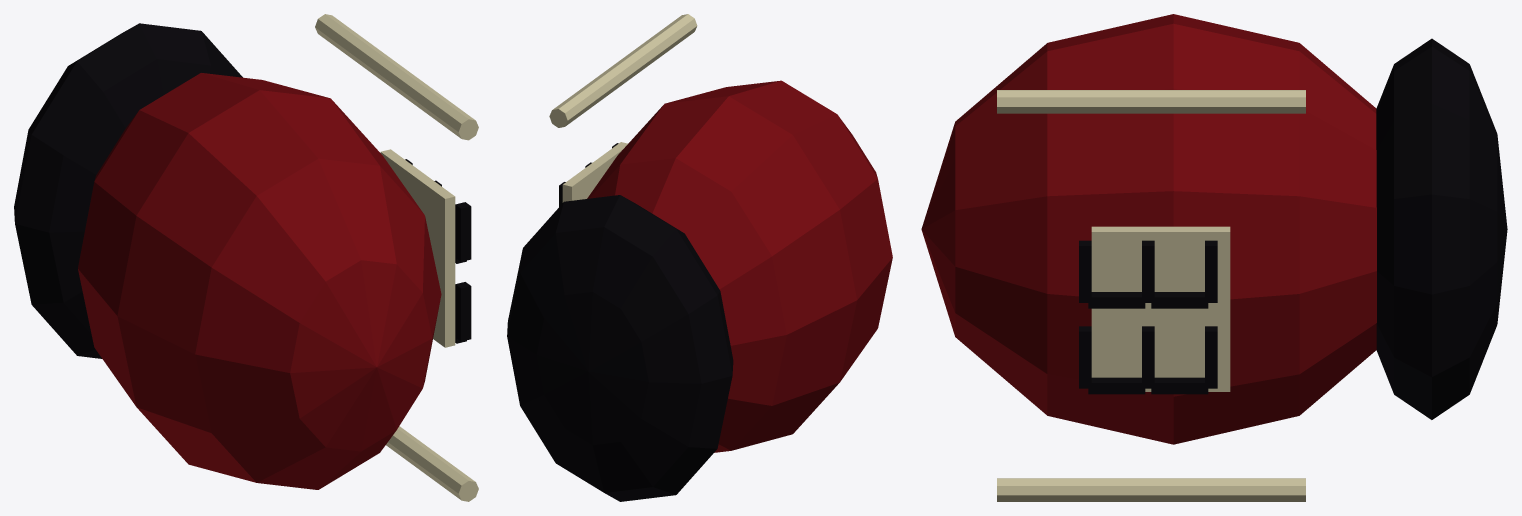
File: Resident7Body.obj
The picture shows the model from 3 angles, left to right: view 1: azimuth 30°, elevation 25°; view 2: azimuth 150°, elevation 25°; view 3: azimuth 270°, elevation 25°; orthographic projection. The views are drawn at different scales.
Parts seen in each view (by area): view 1: Resident7Body; view 2: Resident7Body; view 3: Resident7Body.
Boxes of the visible parts, left/top/right/bottom form: Resident7Body: left=14, top=14, right=478, bottom=501; Resident7Body: left=507, top=14, right=892, bottom=501; Resident7Body: left=921, top=14, right=1507, bottom=501.
Bounding box in the file's own units: 61 × 72 × 93.
